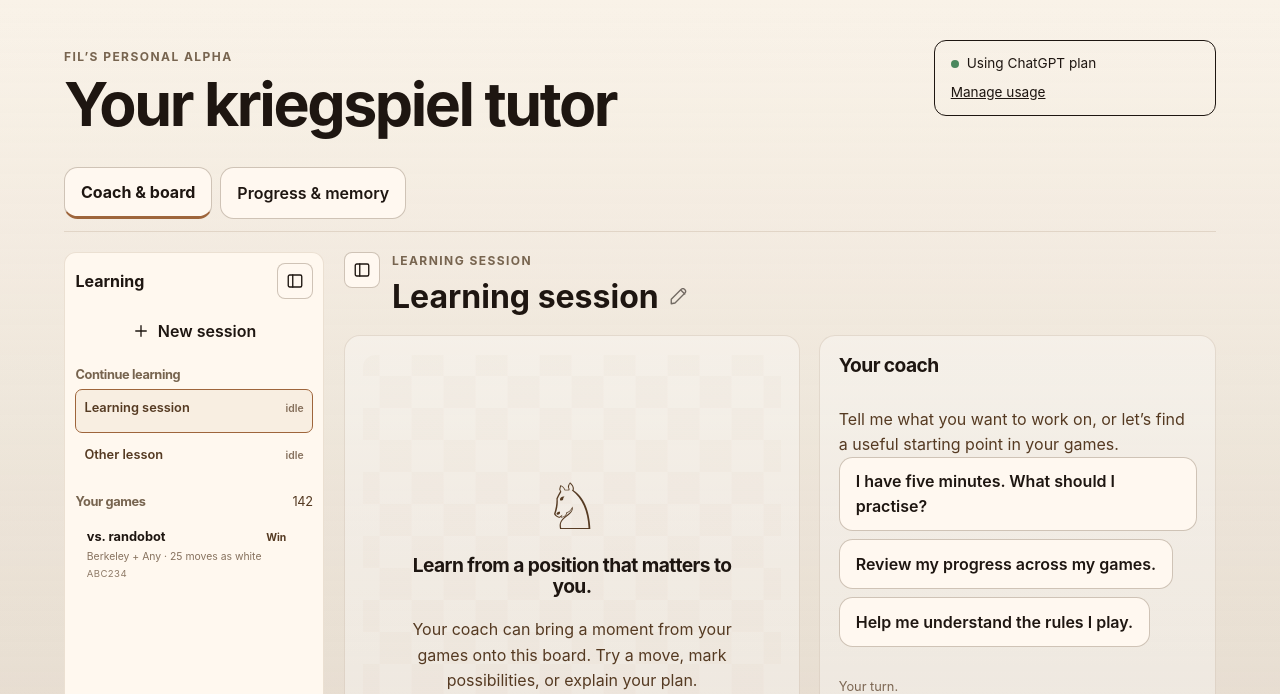
Scenario: renames_the_current_session_title_and_sidebar_without_inference
Click the button with aria-label "Rename learning session:".
click(540, 297)  # box x1=392 y1=274 x2=687 y2=319
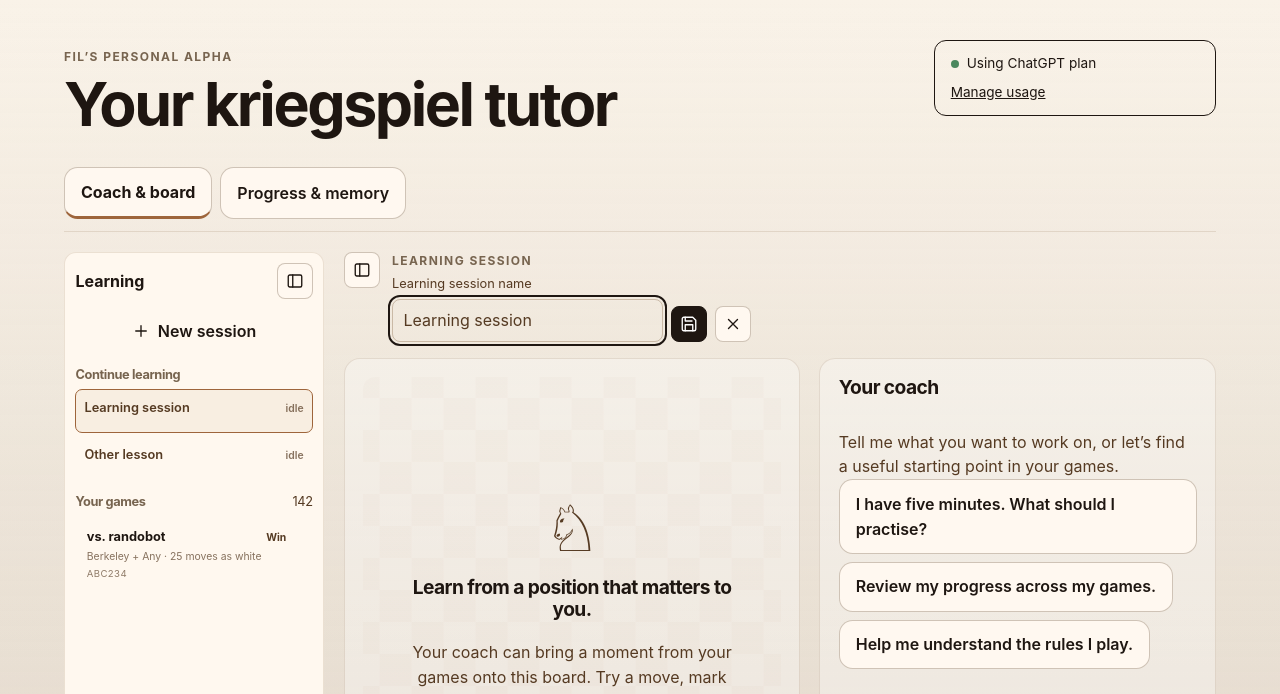
Replace the text in the field labelled "Learning session name" with "My renamed lesson" at (527, 320), box x1=392 y1=299 x2=663 y2=342
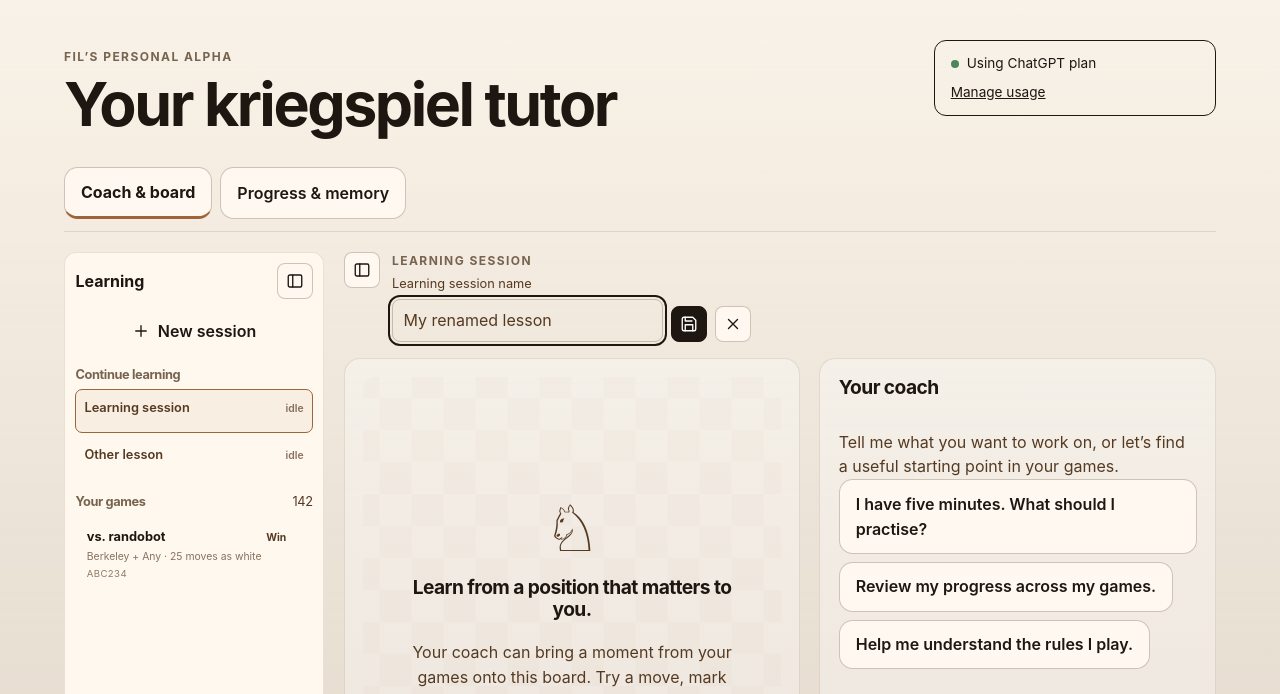
Click the button named "Save session name".
click(689, 324)  # box x1=671 y1=306 x2=707 y2=342
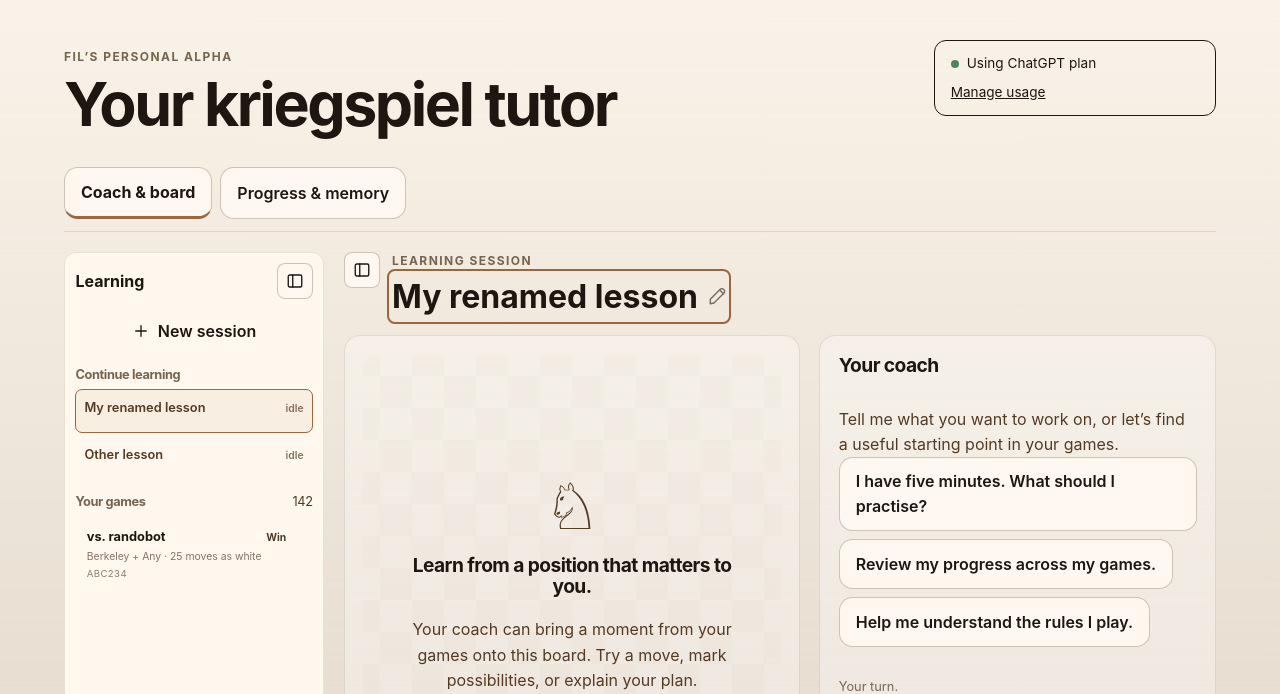
Expected: the button "Other lesson idle" is shown, x1=75 y1=436 x2=313 y2=480
Expected: the heading "My renamed lesson" is shown, x1=392 y1=274 x2=726 y2=319
Expected: the button "My renamed lesson idle" is shown, x1=75 y1=388 x2=313 y2=433
